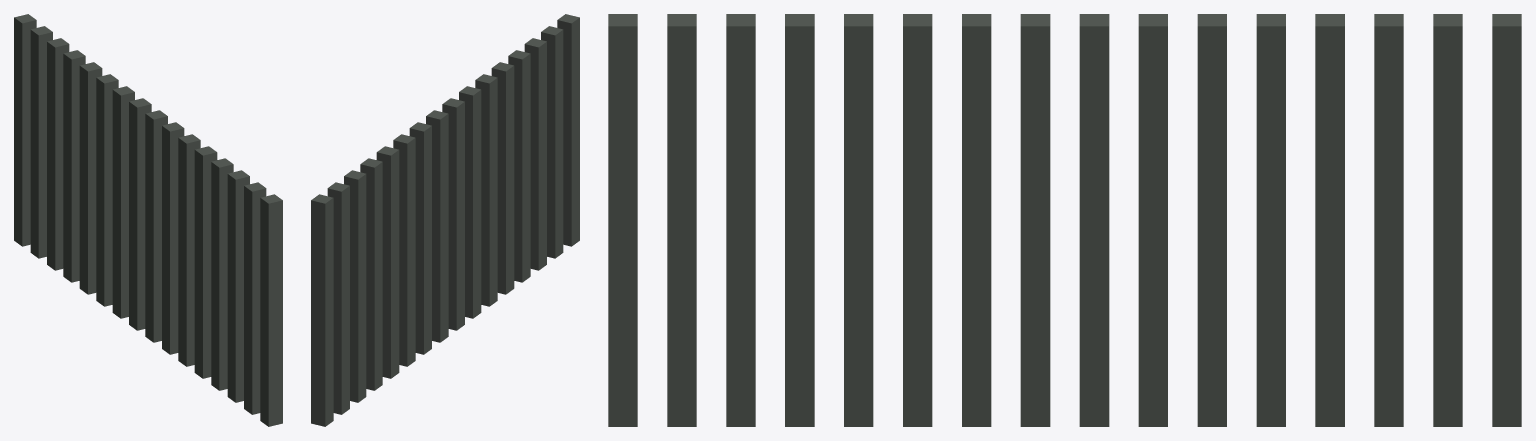
The model's file is Escenario 3 chocorramosurvivor-0.obj.
3 renders of one model, left to right at view 1: azimuth 30°, elevation 25°; view 2: azimuth 150°, elevation 25°; view 3: azimuth 270°, elevation 25°, orthographic. The views are drawn at different scales.
Visible parts, largest first — view 1: Escenario_3_chocorramosurvivor-0_Escenario_3_chocorramosurvivor-; view 2: Escenario_3_chocorramosurvivor-0_Escenario_3_chocorramosurvivor-; view 3: Escenario_3_chocorramosurvivor-0_Escenario_3_chocorramosurvivor-.
Part boxes in pixels (x1,y1,x2,y2): Escenario_3_chocorramosurvivor-0_Escenario_3_chocorramosurvivor-: (14,14,282,426); Escenario_3_chocorramosurvivor-0_Escenario_3_chocorramosurvivor-: (311,14,579,426); Escenario_3_chocorramosurvivor-0_Escenario_3_chocorramosurvivor-: (608,14,1521,426).
Size of the model in its own units: 0.2 by 3 by 6.2.
Materials: 1 (1 with a texture image).
